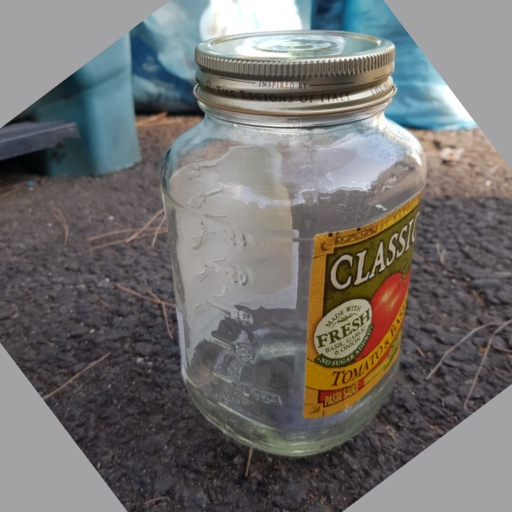Glass_5: (165, 32, 428, 457)
